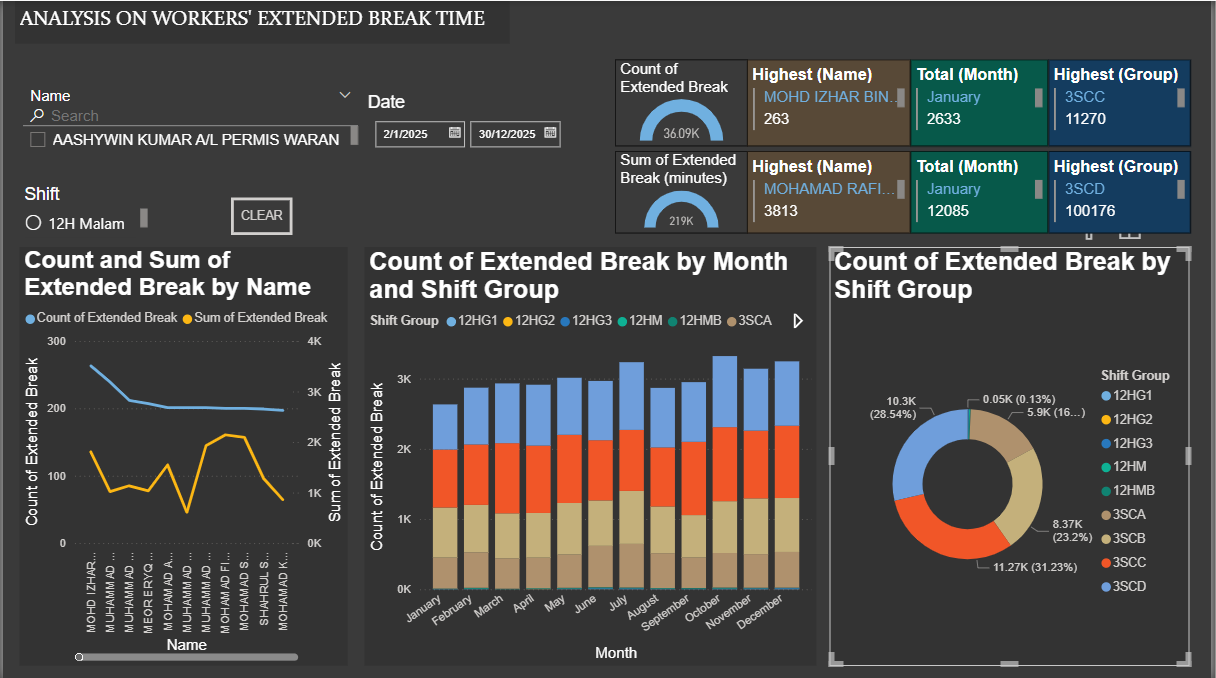

This screenshot's page, from the dashboard's own definition file:
{"tool":"powerbi","page":{"name":"ANALYSIS ON WORKERS' EXTENDED BREAK TIME","canvas":[1280,720],"ordinal":0},"visuals":[{"type":"slicer","fields":{"Values":["Data.Name"]},"box":[16.2,85.8,365.9,85.8],"z":0},{"type":"gauge","title":"Count of Extended Break","fields":{"Y":["CountNonNull(Data.Extended Break)"],"MaxValue":["CountNonNull(Data.Employee No.)"]},"box":[648.2,62.6,140.9,92.3],"z":1000},{"type":"gauge","title":"Sum of Extended Break (minutes)","fields":{"Y":["Sum(Data.Extended Break)"],"MaxValue":["Sum(Data.Extended Break)"]},"box":[648.2,159.8,140.9,87.4],"z":2000},{"type":"textbox","box":[13,0,524.6,45.3],"z":3000},{"type":"actionButton","box":[241.8,208.4,65.2,39.8],"z":4000},{"type":"slicer","title":"Date","fields":{"Values":["Data.ShiftDate"]},"box":[382.1,97.2,228.3,74.5],"z":5000},{"type":"lineChart","title":"Count and Sum of Extended Break by Name","fields":{"Category":["Data.Name"],"Y":["CountNonNull(Data.Extended Break)"],"Y2":["Sum(Data.Extended Break)1"]},"box":[17.8,260.7,348.1,443.7],"z":6000},{"type":"multiRowCard","title":"Highest (Name)","fields":{"Values":["CountNonNull(Data.Extended Break)","Data.Name"]},"box":[789.1,62.6,173.3,92.3],"z":7000},{"type":"multiRowCard","title":"Highest (Name)","fields":{"Values":["Sum(Data.Extended Break)","Data.Name"]},"box":[789.1,159.8,173.3,87.4],"z":8000},{"type":"columnChart","fields":{"Series":["Data.Shift Group"],"Category":["Data.ShiftDate.Variation.Date Hierarchy.Month"],"Y":["CountNonNull(Data.Extended Break)"]},"box":[383.8,260.7,479.3,443.7],"z":9000},{"type":"multiRowCard","title":"Total (Month)","fields":{"Values":["CountNonNull(Data.Extended Break)","Data.ShiftDate.Variation.Date Hierarchy.Month"]},"box":[962.4,62.6,145.7,92.3],"z":10000},{"type":"donutChart","fields":{"Series":["Data.Shift Group"],"Y":["CountNonNull(Data.Extended Break)"]},"box":[876,260.7,382.1,443.7],"z":12000},{"type":"multiRowCard","title":"Total (Month)","fields":{"Values":["Sum(Data.Extended Break)","Data.ShiftDate.Variation.Date Hierarchy.Month"]},"box":[962.4,159.8,145.7,87.4],"z":12001},{"type":"multiRowCard","title":"Highest (Group)","fields":{"Values":["CountNonNull(Data.Extended Break)","Data.Shift Group"]},"box":[1108.1,62.6,150.6,92.3],"z":12002},{"type":"multiRowCard","title":"Highest (Group)","fields":{"Values":["Sum(Data.Extended Break)","Data.Shift Group"]},"box":[1108.1,159.8,150.6,87.4],"z":12003},{"type":"listSlicer","fields":{"Values":["Data.Shift"]},"box":[17.5,194.1,141.6,65.2],"z":12004}]}

Visuals, with their boxes in screenshot pixels (x1, y1, x2, y2), scaled from the page's 1280x720 canvas onto the 1216x678 screenshot:
slicer - Data.Name: <box>15,81,363,162</box>
"Count of Extended Break" gauge: <box>616,59,750,146</box>
"Sum of Extended Break (minutes)" gauge: <box>616,150,750,233</box>
textbox: <box>12,0,511,43</box>
actionButton: <box>230,196,292,234</box>
"Date" slicer: <box>363,92,580,162</box>
"Count and Sum of Extended Break by Name" lineChart: <box>17,245,348,663</box>
"Highest (Name)" multiRowCard: <box>750,59,914,146</box>
"Highest (Name)" multiRowCard: <box>750,150,914,233</box>
columnChart - Data.Shift Group x Data.ShiftDate.Variation.Date Hierarchy.Month: <box>365,245,820,663</box>
"Total (Month)" multiRowCard: <box>914,59,1053,146</box>
donutChart - Data.Shift Group x CountNonNull(Data.Extended Break): <box>832,245,1195,663</box>
"Total (Month)" multiRowCard: <box>914,150,1053,233</box>
"Highest (Group)" multiRowCard: <box>1053,59,1196,146</box>
"Highest (Group)" multiRowCard: <box>1053,150,1196,233</box>
listSlicer - Data.Shift: <box>17,183,151,244</box>
